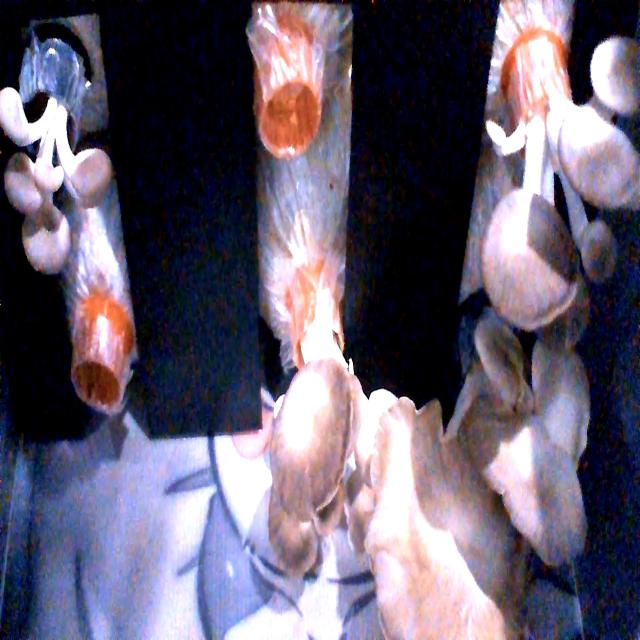big: (365, 330, 587, 640), (470, 49, 632, 324), (255, 360, 392, 569)
nfound: (258, 75, 326, 162), (78, 354, 129, 428)
small: (2, 82, 120, 288)
